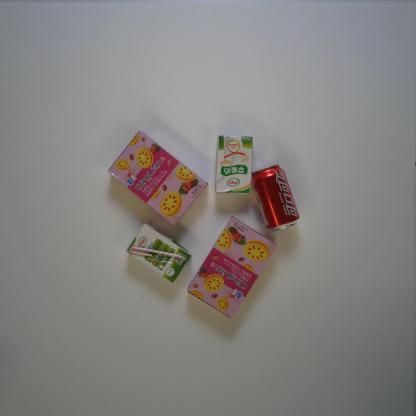Dessert: (107, 130, 208, 226), (187, 216, 277, 320)
Drink: (250, 163, 301, 232)
Milk: (126, 223, 192, 284), (215, 135, 253, 194)
